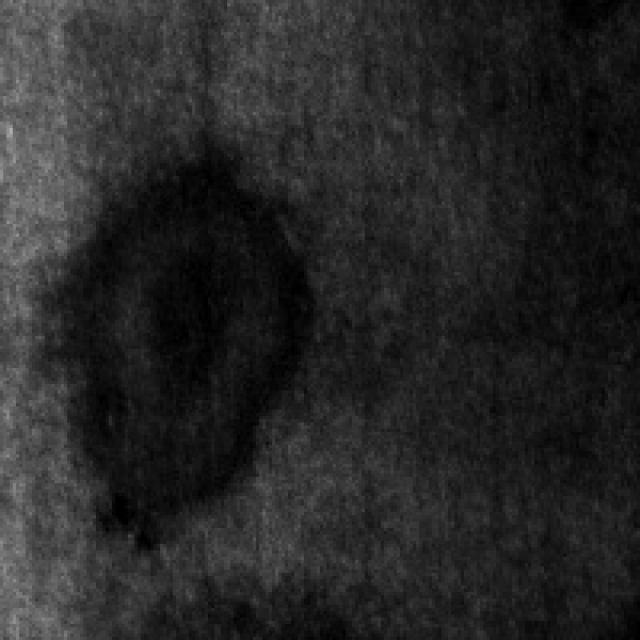patches: (67, 141, 317, 518)
